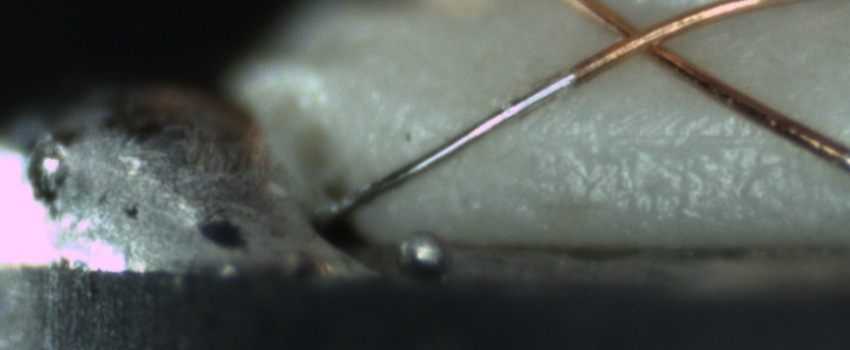CL: (598, 8, 686, 66)
DL: (609, 108, 786, 165)
TS: (318, 69, 577, 222)
TTCW: (317, 51, 619, 219)
